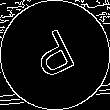P_SE: (27, 24, 83, 86)
